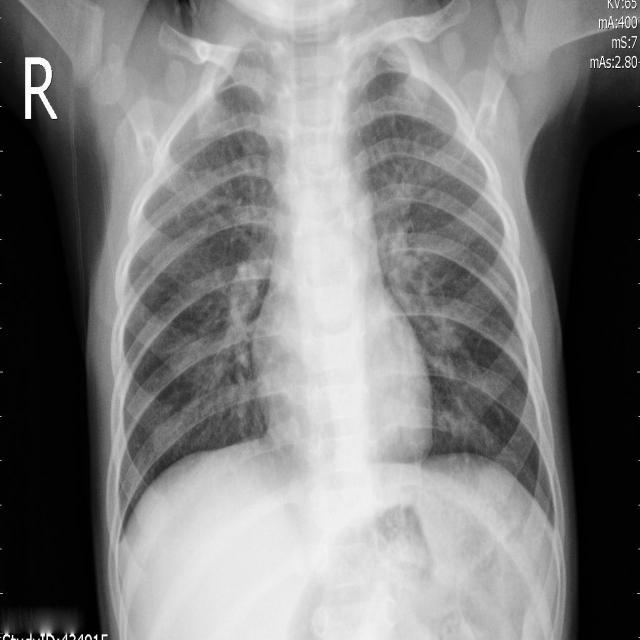low-pneumonia: (378, 178, 462, 384), (220, 229, 275, 372)
